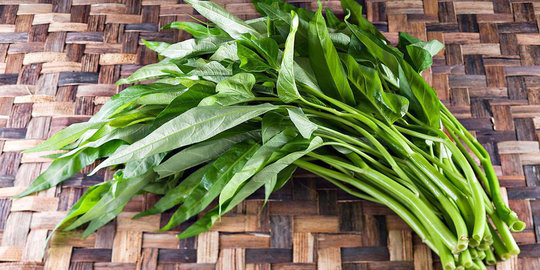Kangkung: (100, 4, 522, 270)
